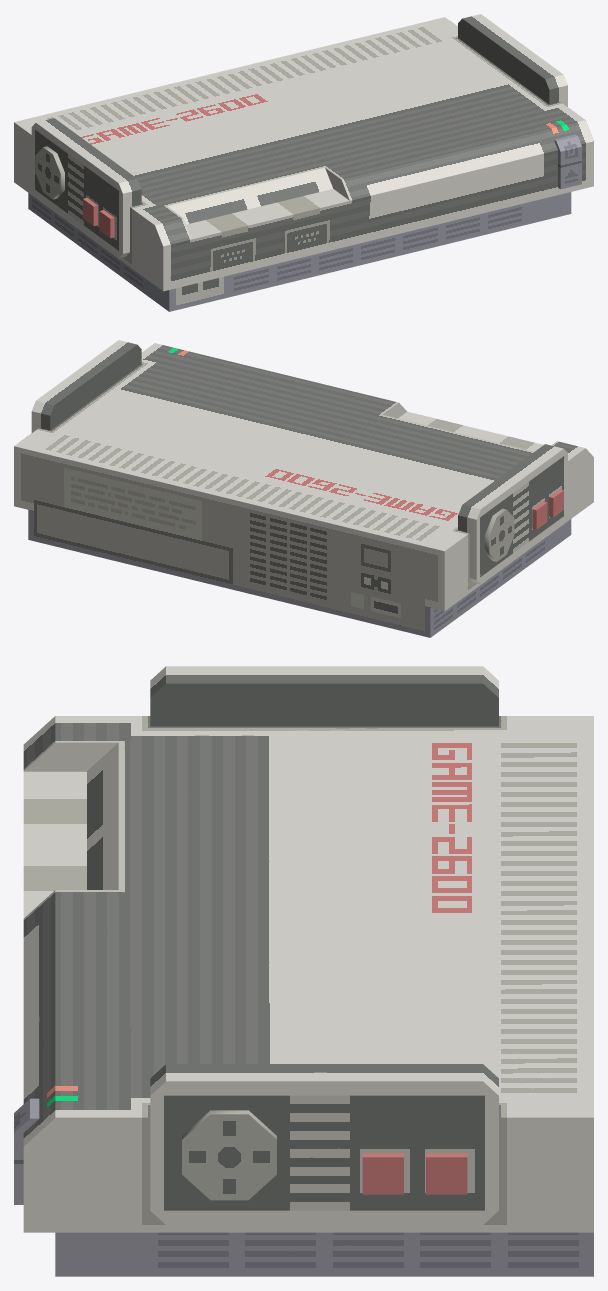
The model's file is 04b1_Video_Game.glb.
3 renders of one model, top to bottom at view 1: azimuth 30°, elevation 25°; view 2: azimuth 150°, elevation 25°; view 3: azimuth 270°, elevation 25°, orthographic. The views are drawn at different scales.
Visible parts, largest first — view 1: part_0; view 2: part_0; view 3: part_0.
Part boxes in pixels (x1,y1,x2,y2): part_0: [14, 14, 593, 311]; part_0: [14, 340, 593, 637]; part_0: [14, 666, 593, 1276].
Bounding box in the file's own units: 0.316 × 0.075 × 0.183.
1 material, 1 textured.
